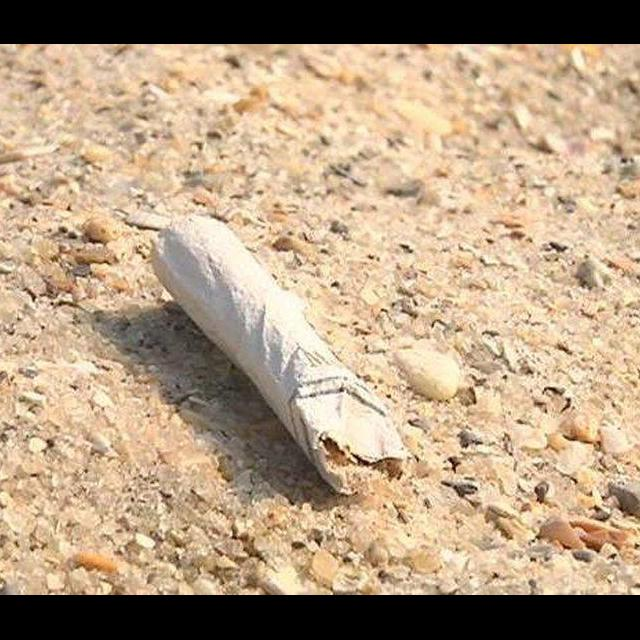Cigarette Butt: (150, 215, 411, 498)
